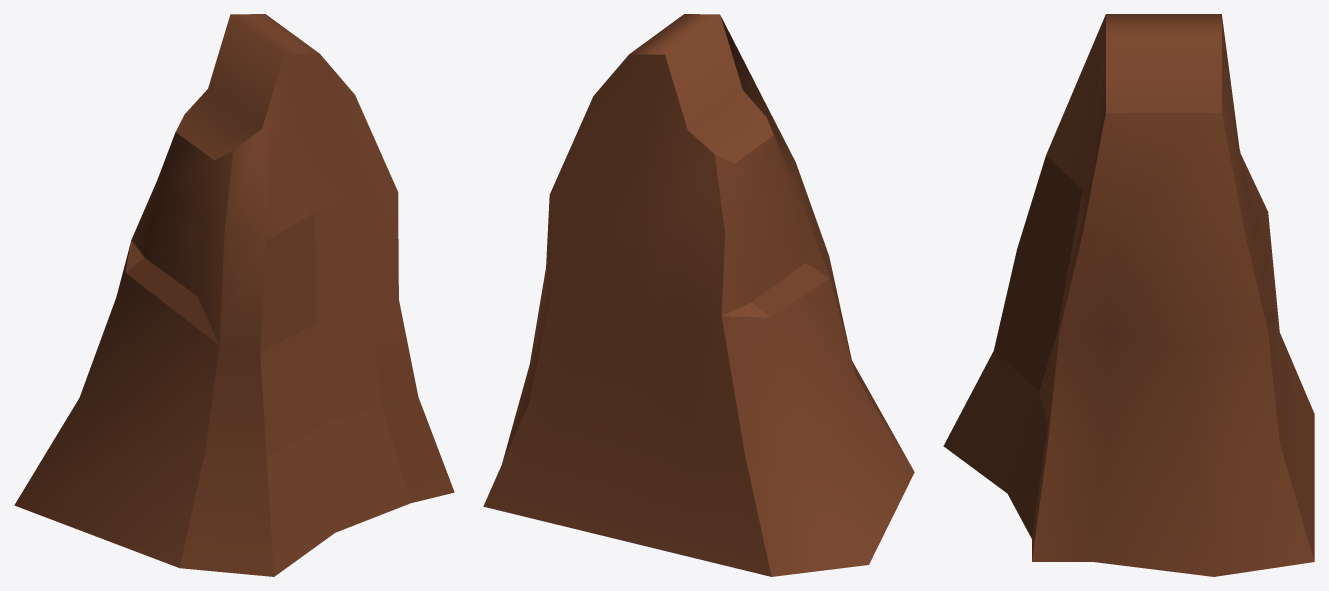
Rendered from Montaña3.FBX.
The picture shows the model from 3 angles, left to right: view 1: azimuth 30°, elevation 25°; view 2: azimuth 150°, elevation 25°; view 3: azimuth 270°, elevation 25°; orthographic projection. The views are drawn at different scales.
Parts seen in each view (by area): view 1: Box004; view 2: Box004; view 3: Box004.
Part boxes in pixels (box(x1,y1,x2,y2)): Box004: box(14, 14, 454, 576); Box004: box(483, 14, 914, 576); Box004: box(943, 14, 1314, 576).
Size of the model in its own units: 2561 by 2930 by 2065.
